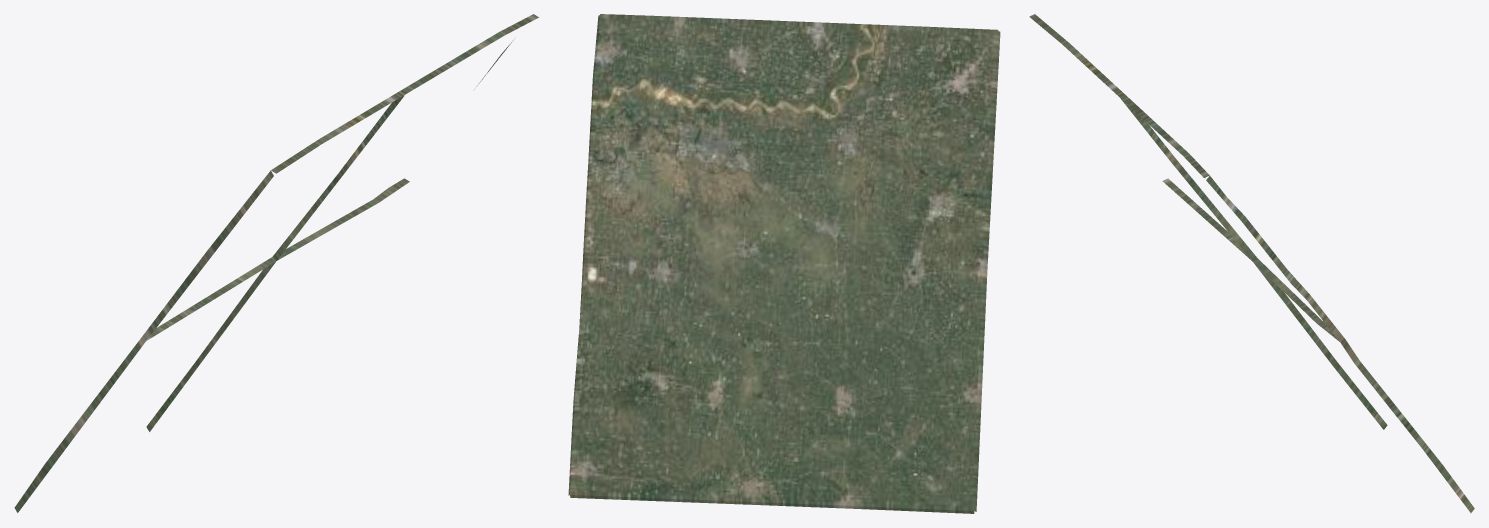
The picture shows the model from 3 angles, left to right: view 1: azimuth 30°, elevation 25°; view 2: azimuth 150°, elevation 25°; view 3: azimuth 270°, elevation 25°; orthographic projection. The views are drawn at different scales.
Size of the model in its own units: 155772 by 131263 by 136535.
Materials: 1 (1 with a texture image).
